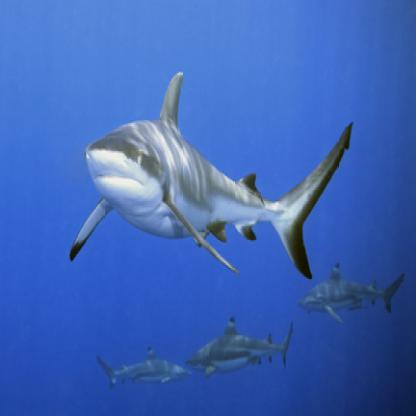shark: (69, 73, 354, 278), (182, 313, 295, 378), (296, 263, 408, 324), (96, 347, 192, 389)
